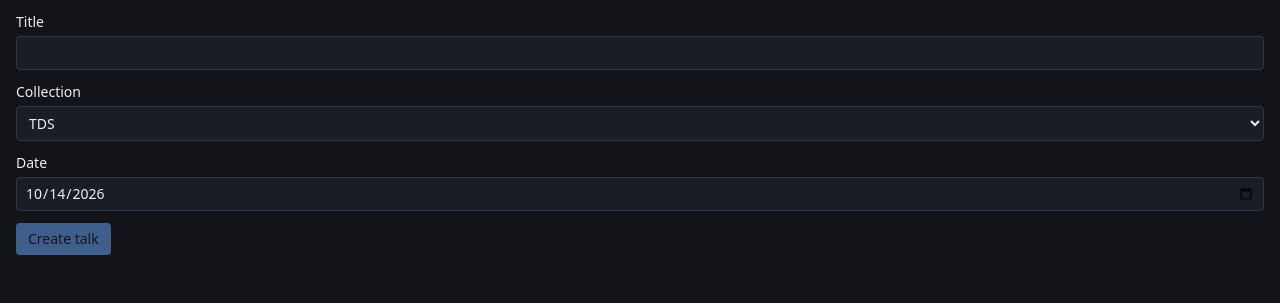
Test: NewTalkForm › shows the API message rather than a generic failure
Type "My talk" into the field.
click(640, 53); type("My talk")  # box [16,36,1264,70]
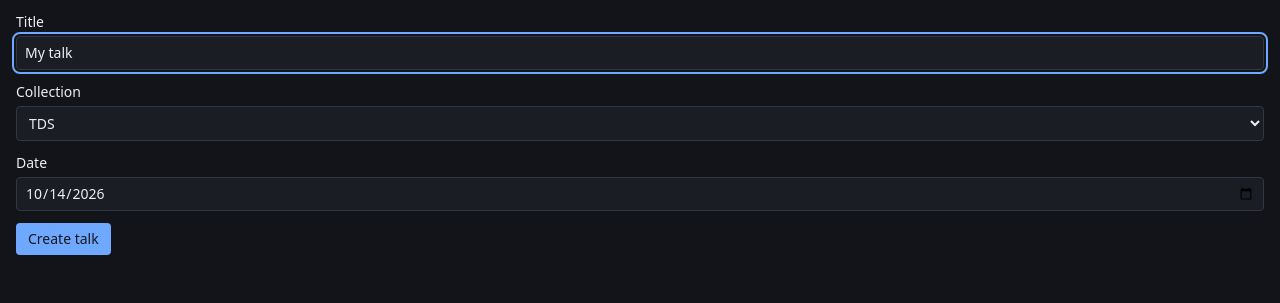
Click the button "Create talk".
click(63, 239)  # box [16,223,111,255]
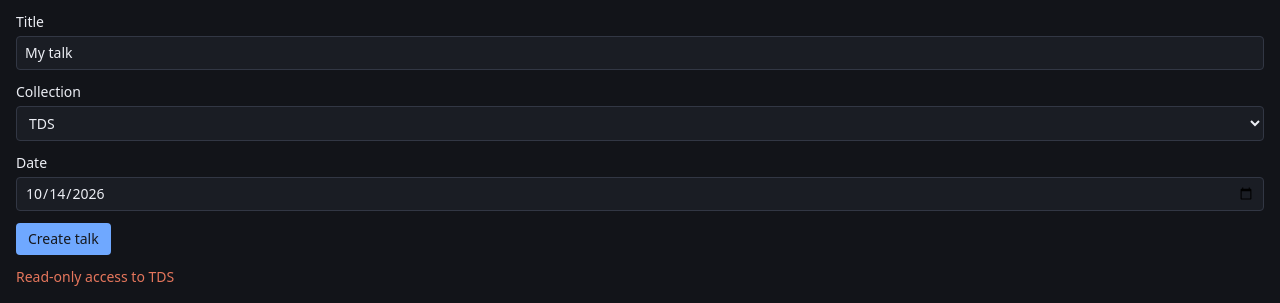
Result: the message reads "Read-only access to TDS" at [16,267,174,286]
